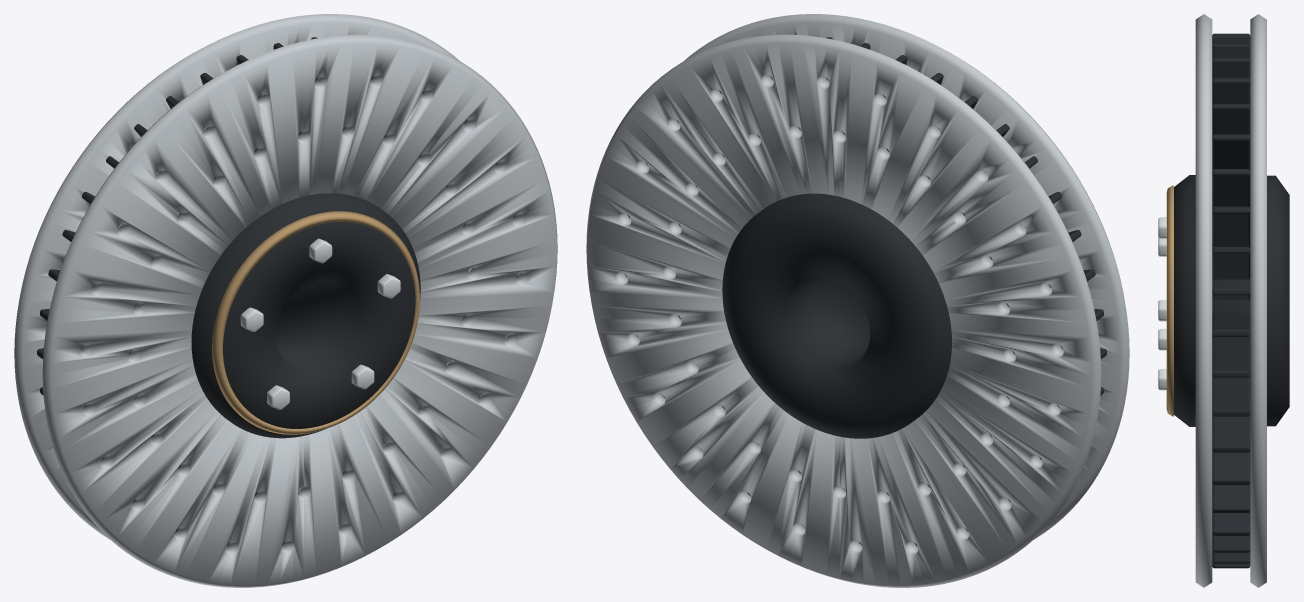
Rendered from precision-brake-disc.glb.
The picture shows the model from 3 angles, left to right: view 1: azimuth 30°, elevation 25°; view 2: azimuth 150°, elevation 25°; view 3: azimuth 270°, elevation 25°; orthographic projection. The views are drawn at different scales.
Visible parts, largest first — view 1: Brushed aluminium, Soft black, Satin champagne metal, Polished steel; view 2: Brushed aluminium, Soft black; view 3: Soft black, Brushed aluminium, Satin champagne metal, Polished steel.
Part boxes in pixels (x1,y1,x2,y2): Brushed aluminium: [14, 14, 557, 587]; Soft black: [37, 37, 517, 546]; Satin champagne metal: [212, 211, 419, 434]; Polished steel: [240, 238, 400, 409]; Brushed aluminium: [586, 14, 1129, 587]; Soft black: [626, 37, 1106, 546]; Soft black: [1174, 33, 1289, 568]; Brushed aluminium: [1195, 14, 1266, 587]; Satin champagne metal: [1166, 185, 1173, 416]; Polished steel: [1158, 217, 1166, 390].
Bounding box in the file's own units: 1.03 × 1.03 × 0.236.
